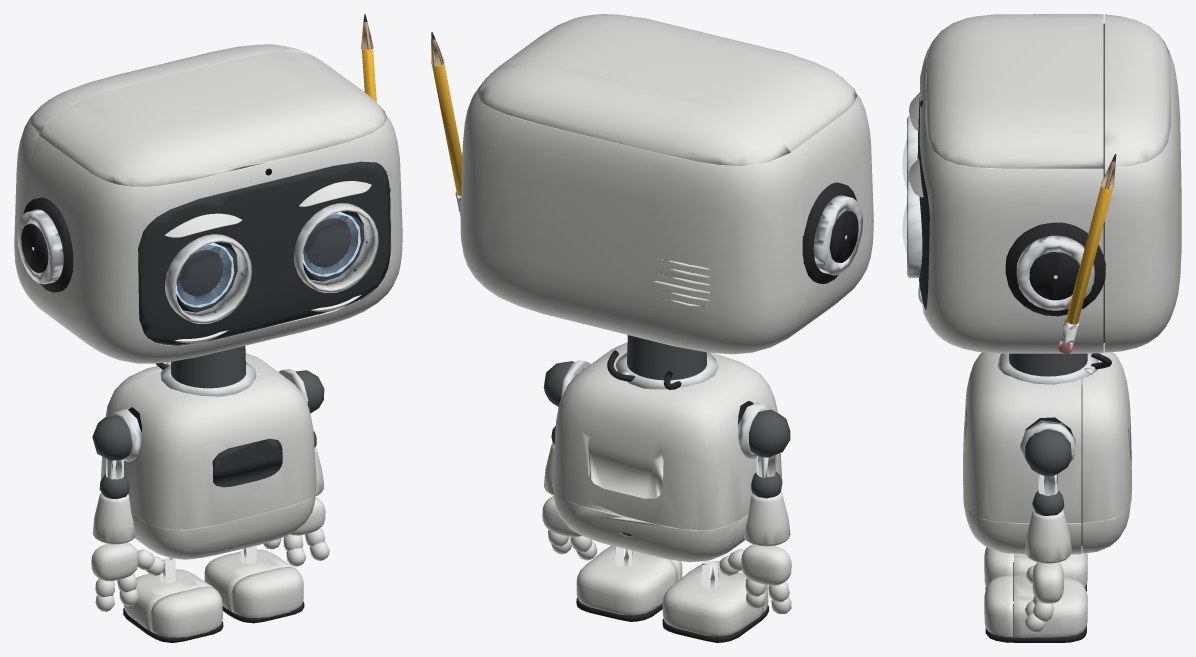
Rendered from nib.glb.
3 views of the same model, side by side, from view 1: azimuth 30°, elevation 25°; view 2: azimuth 150°, elevation 25°; view 3: azimuth 270°, elevation 25° (orthographic). The views are drawn at different scales.
Visible parts, largest first — view 1: Kopfschale, Rumpfschale, Gesichtsglas, Schuh L, Schuh R, Kopfkern, Frontlinse R, Frontlinse L, Fassung R, Fassung L, Anzeigeglas, Hals (+16 smaller); view 2: Kopfschale, Rumpfschale, Schuh L, Schuh R, Hals, Unterarm R, Ohrknopf R, Handfläche R, Ohrsockel R, Schulterkugel R, Stiftschaft, Ohrkappe R (+6 smaller); view 3: Kopfschale, Rumpfschale, Schuh L, Ohrsockel L, Ohrknopf L, Unterarm L, Ohrkappe L, Schuh R, Stiftschaft, Schulterkugel L, Hals, Fassung L (+9 smaller).
Boxes of the visible parts, box(x1,y1,x2,y2) form: Kopfschale: box(14, 44, 402, 363); Rumpfschale: box(101, 353, 316, 559); Gesichtsglas: box(138, 161, 390, 344); Schuh L: box(204, 549, 303, 617); Schuh R: box(123, 569, 222, 637); Kopfkern: box(144, 162, 386, 344); Frontlinse R: box(177, 245, 240, 312); Frontlinse L: box(304, 214, 367, 281); Fassung R: box(165, 234, 251, 323); Fassung L: box(294, 203, 378, 292); Anzeigeglas: box(212, 438, 282, 487); Hals: box(171, 346, 245, 388); Kopfschale: box(460, 14, 873, 354); Rumpfschale: box(552, 342, 782, 562); Schuh L: box(576, 545, 682, 615); Schuh R: box(662, 561, 768, 636); Hals: box(627, 335, 706, 380); Unterarm R: box(744, 491, 790, 546); Ohrknopf R: box(813, 195, 862, 275); Handfläche R: box(741, 544, 791, 585); Ohrsockel R: box(802, 182, 857, 283); Schulterkugel R: box(749, 409, 790, 457); Stiftschaft: box(432, 63, 462, 195); Ohrkappe R: box(829, 210, 858, 262); Kopfschale: box(919, 14, 1181, 353); Rumpfschale: box(963, 345, 1131, 554); Schuh L: box(984, 575, 1087, 637); Ohrsockel L: box(1005, 222, 1105, 316); Ohrknopf L: box(1016, 235, 1094, 310); Unterarm L: box(1024, 509, 1071, 563); Ohrkappe L: box(1029, 252, 1079, 300); Schuh R: box(984, 546, 1087, 587); Stiftschaft: box(1066, 185, 1112, 324); Schulterkugel L: box(1025, 429, 1071, 476); Hals: box(1009, 353, 1087, 376); Fassung L: box(907, 180, 922, 277).
Size of the model in its own units: 0.2388 by 0.3288 by 0.1514.
